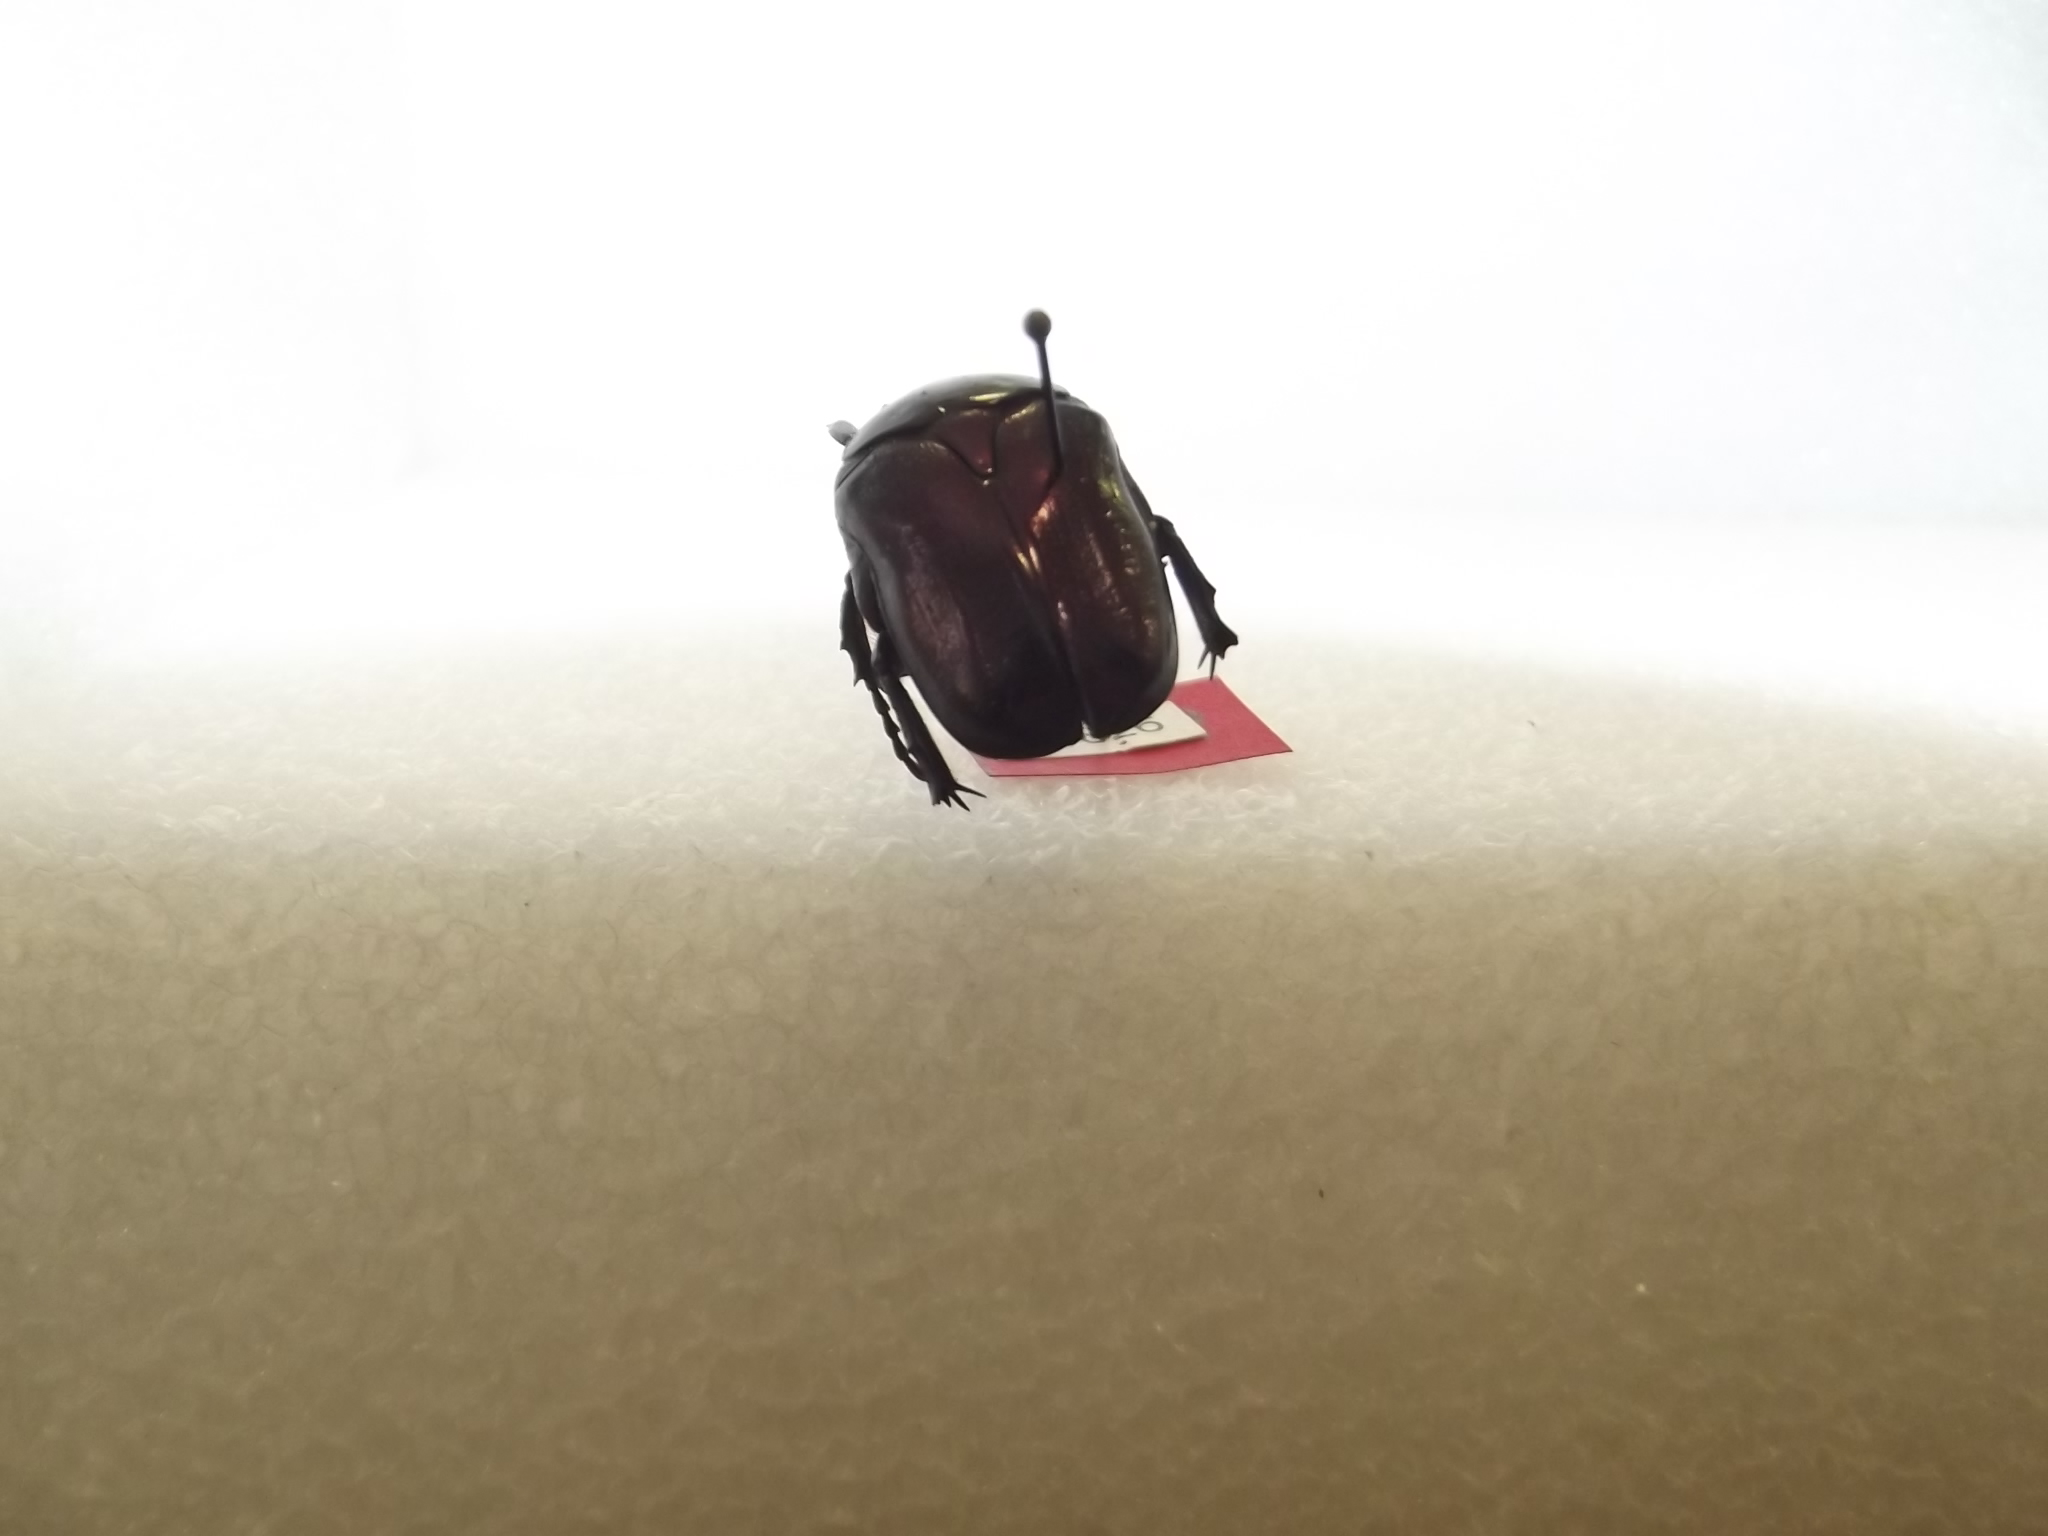Protaetia_besucheti: (789, 339, 1255, 854)
